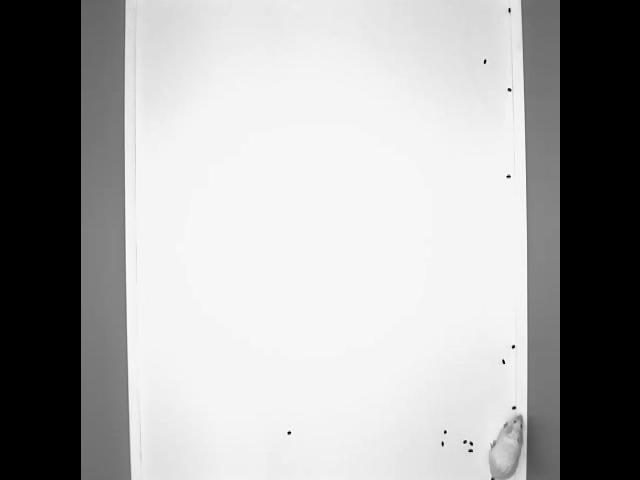Tikus: (469, 412, 525, 480)
